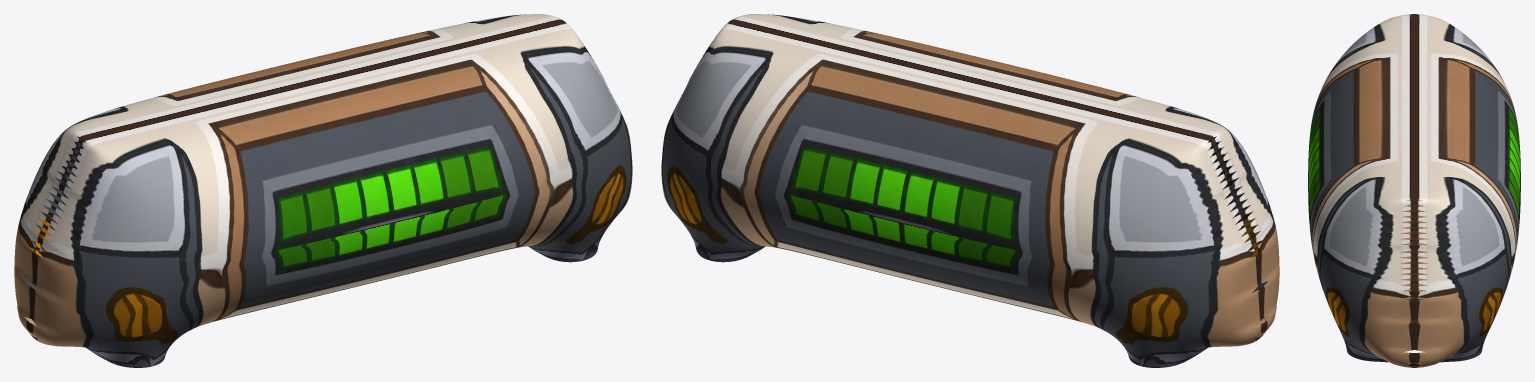
Rendered from status_console.glb.
3 renders of one model, left to right at view 1: azimuth 30°, elevation 25°; view 2: azimuth 150°, elevation 25°; view 3: azimuth 270°, elevation 25°, orthographic. The views are drawn at different scales.
Visible parts, largest first — view 1: status_console; view 2: status_console; view 3: status_console.
Part boxes in pixels (x1,y1,x2,y2): status_console: (14,14,632,367); status_console: (661,14,1279,367); status_console: (1308,14,1520,367).
Size of the model in its own units: 0.989 by 0.3262 by 0.3922.
1 material, 1 textured.
